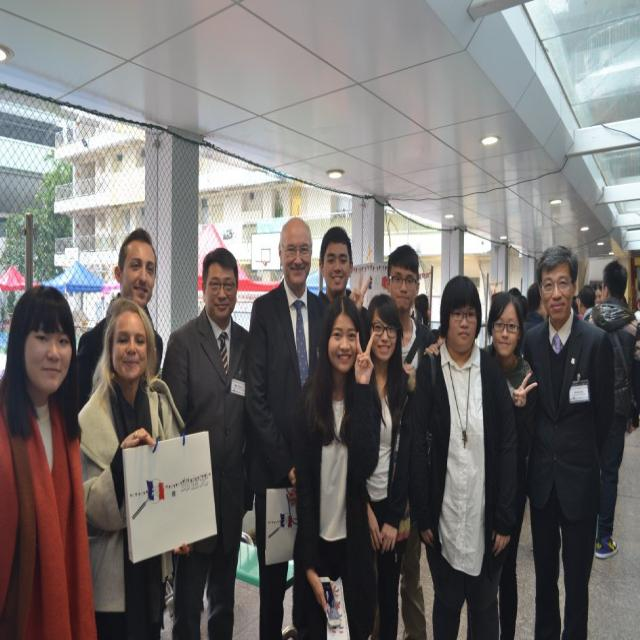body: (76, 295, 221, 640), (402, 269, 517, 639), (158, 242, 260, 639), (242, 214, 334, 640), (521, 242, 618, 640), (0, 282, 100, 640), (349, 243, 438, 640), (286, 287, 386, 639), (497, 265, 640, 468), (480, 288, 541, 640), (361, 292, 418, 638), (71, 222, 169, 404), (582, 259, 640, 561), (317, 226, 371, 335)
